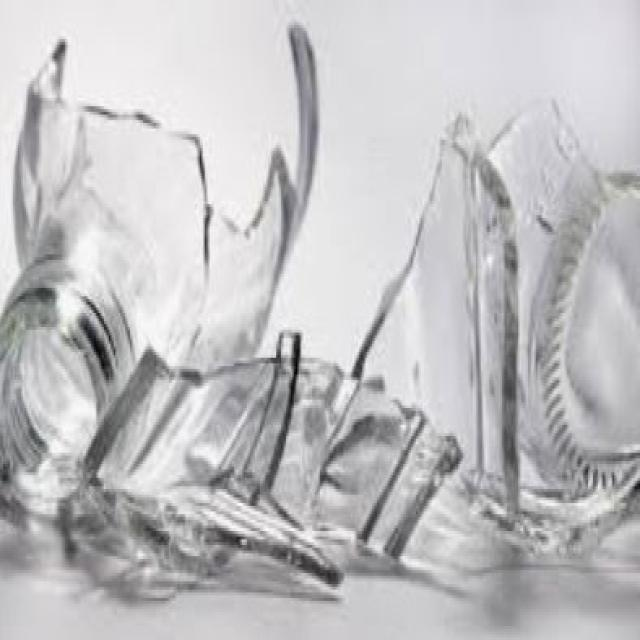electronic: (0, 18, 322, 540)
